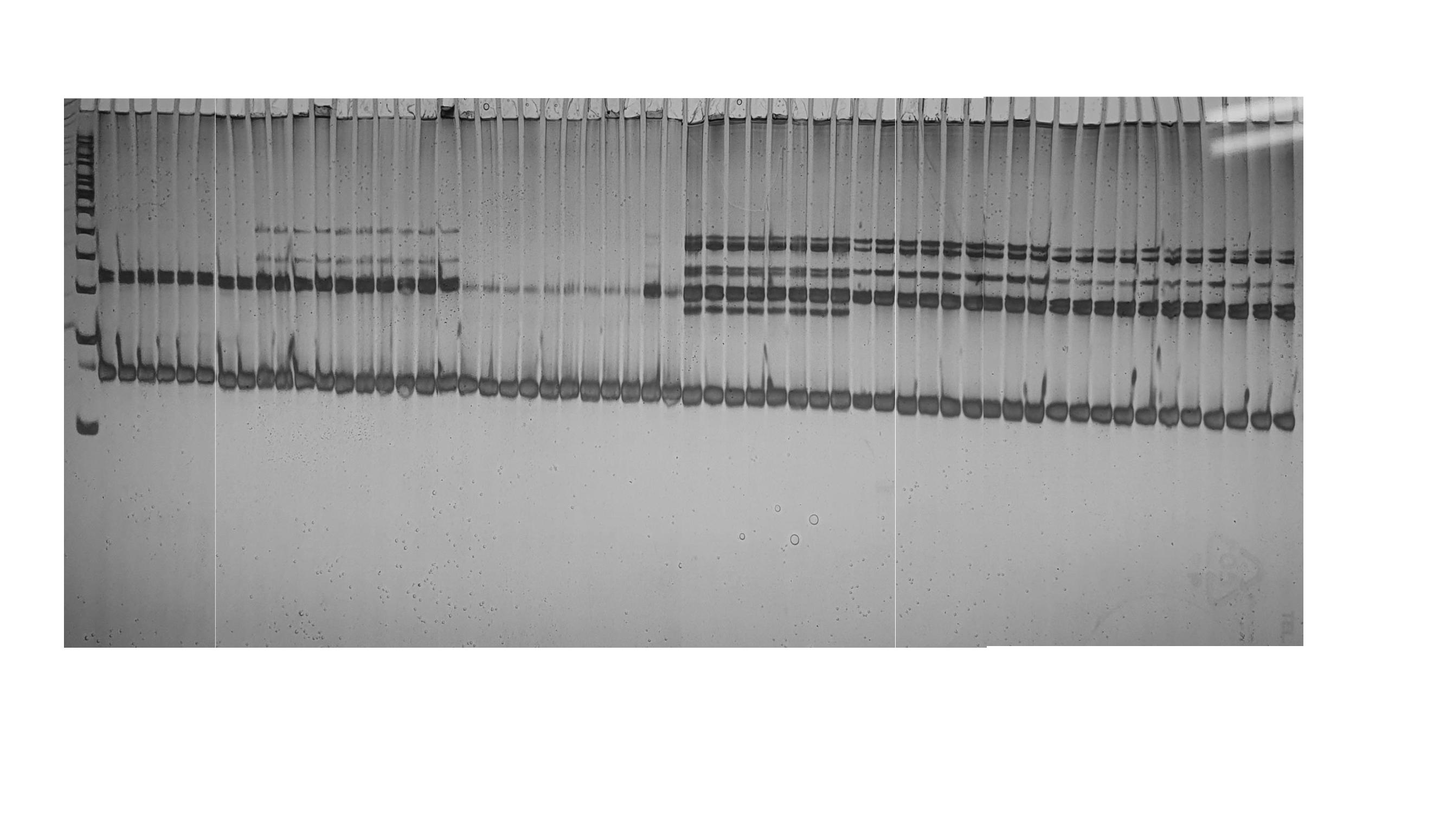B: (437, 357, 458, 396), (766, 375, 788, 410), (1180, 400, 1202, 430), (394, 370, 415, 401), (1272, 409, 1298, 434), (1158, 402, 1180, 431), (724, 381, 746, 410), (1249, 405, 1272, 432), (1203, 405, 1226, 432), (1135, 401, 1158, 428), (961, 393, 983, 421), (939, 393, 961, 421), (415, 369, 436, 398), (539, 373, 559, 403), (873, 387, 895, 414), (896, 392, 918, 419), (354, 368, 375, 396), (1002, 395, 1023, 423), (918, 390, 939, 418), (560, 374, 580, 403), (662, 380, 682, 409), (1045, 400, 1069, 424), (1113, 403, 1135, 429), (1023, 399, 1045, 425), (830, 387, 852, 413), (256, 362, 275, 392), (375, 368, 394, 398), (334, 370, 355, 397), (1226, 407, 1249, 431), (1069, 399, 1091, 424), (458, 372, 479, 398), (682, 382, 703, 408), (809, 386, 830, 412), (788, 386, 809, 412), (519, 375, 539, 402), (621, 378, 641, 405), (746, 383, 766, 410), (703, 383, 724, 408), (580, 378, 600, 404), (479, 372, 499, 398), (1091, 402, 1113, 425), (294, 369, 315, 393), (600, 379, 621, 403), (852, 388, 873, 412), (499, 376, 519, 401), (641, 380, 661, 405), (982, 395, 1002, 420), (275, 367, 294, 393), (137, 362, 157, 386), (217, 369, 238, 391), (176, 362, 195, 386), (97, 361, 117, 383), (196, 363, 215, 386), (315, 370, 334, 393), (117, 363, 137, 384), (918, 290, 940, 309), (238, 369, 256, 392), (157, 363, 175, 385), (354, 271, 376, 285), (1229, 276, 1251, 290), (1204, 276, 1226, 290), (438, 222, 461, 235), (1027, 273, 1050, 286), (873, 284, 895, 297), (1205, 309, 1227, 322), (1160, 298, 1182, 311), (964, 271, 983, 286), (461, 281, 481, 295), (438, 282, 461, 294), (293, 252, 314, 265), (543, 282, 562, 296), (1160, 308, 1182, 320), (787, 305, 807, 318), (1184, 255, 1204, 268), (582, 283, 602, 296), (1006, 272, 1026, 285), (1118, 242, 1138, 255), (1273, 311, 1296, 322), (1274, 256, 1297, 267), (1227, 299, 1250, 310), (1227, 310, 1250, 321), (1048, 306, 1071, 317), (333, 273, 354, 285), (396, 283, 417, 295), (314, 251, 332, 265), (396, 227, 417, 239), (766, 305, 787, 317), (1229, 256, 1250, 268), (563, 282, 581, 296), (255, 270, 274, 283), (314, 270, 333, 283), (603, 283, 622, 296), (746, 305, 765, 318), (1253, 256, 1272, 269), (1071, 306, 1093, 317), (1160, 278, 1182, 289), (1093, 297, 1115, 308), (1004, 303, 1026, 314), (1051, 254, 1073, 265), (417, 284, 437, 296), (705, 240, 725, 252), (482, 283, 502, 295), (1162, 244, 1182, 256), (1027, 294, 1047, 306), (353, 254, 374, 265), (830, 294, 851, 305), (897, 298, 918, 309), (852, 267, 873, 278), (1251, 300, 1272, 311), (1252, 311, 1273, 322), (1251, 245, 1272, 256), (942, 249, 963, 260), (1161, 256, 1182, 267), (1138, 307, 1159, 318), (1116, 308, 1137, 319), (1072, 276, 1093, 287), (984, 240, 1005, 251), (1273, 301, 1296, 311), (1181, 299, 1204, 309), (1048, 296, 1071, 306), (1028, 243, 1051, 253), (683, 305, 702, 317), (789, 242, 808, 254), (502, 284, 521, 296), (356, 285, 376, 296), (376, 283, 396, 294), (333, 254, 353, 265), (788, 293, 808, 304), (809, 307, 829, 318), (831, 307, 851, 318), (875, 246, 895, 257), (704, 304, 724, 315), (726, 241, 746, 252), (725, 305, 745, 316), (682, 293, 704, 303), (873, 297, 895, 307), (873, 267, 895, 277), (810, 242, 830, 253), (767, 230, 787, 241), (522, 284, 542, 295), (940, 292, 962, 302), (942, 239, 964, 249), (1139, 244, 1161, 254), (1139, 277, 1159, 288), (1093, 308, 1115, 318), (982, 293, 1004, 303), (963, 301, 983, 312), (333, 285, 354, 295), (291, 225, 312, 235), (809, 294, 830, 304), (704, 292, 725, 302), (683, 283, 704, 293), (897, 270, 918, 280), (919, 270, 940, 280), (1183, 246, 1204, 256), (1182, 309, 1203, 319), (1205, 299, 1226, 309), (941, 271, 962, 281), (1027, 306, 1048, 316), (1005, 294, 1026, 304), (983, 303, 1004, 313), (962, 292, 983, 302), (983, 272, 1004, 282), (1074, 254, 1095, 264), (1007, 241, 1028, 251), (984, 250, 1005, 260), (314, 283, 333, 294), (417, 226, 436, 237), (355, 225, 374, 236), (643, 289, 662, 300), (663, 288, 682, 299), (747, 241, 766, 252), (274, 271, 291, 283), (272, 253, 292, 263), (333, 227, 353, 237), (313, 225, 333, 235), (831, 243, 851, 253), (684, 242, 704, 252), (746, 293, 766, 303), (852, 296, 872, 306), (768, 241, 788, 251), (1118, 256, 1138, 266), (1029, 252, 1049, 262), (1007, 252, 1027, 262), (177, 268, 195, 279), (940, 302, 962, 311), (1096, 246, 1118, 255), (376, 273, 395, 283), (137, 276, 156, 286), (1208, 246, 1227, 256), (965, 249, 984, 259), (293, 284, 314, 293), (725, 284, 746, 293), (766, 293, 787, 302), (920, 239, 941, 248), (1072, 297, 1093, 306), (1116, 299, 1137, 308), (1097, 255, 1118, 264), (274, 283, 292, 293), (217, 273, 235, 283), (137, 266, 155, 276), (196, 269, 214, 279), (376, 226, 394, 236), (809, 286, 829, 295), (725, 293, 745, 302), (683, 262, 703, 271), (624, 287, 642, 297), (920, 248, 940, 257), (1208, 255, 1226, 265), (1140, 255, 1160, 264), (1095, 277, 1115, 286), (1051, 276, 1071, 285), (292, 276, 314, 284), (1273, 282, 1295, 290), (1274, 248, 1296, 256), (1137, 299, 1159, 307), (1116, 278, 1138, 286), (156, 268, 175, 277), (176, 278, 195, 287), (747, 271, 766, 280), (1184, 279, 1203, 288), (255, 252, 272, 262), (830, 286, 851, 294), (704, 284, 725, 292), (897, 290, 918, 298), (852, 288, 873, 296), (1229, 247, 1250, 255), (97, 275, 115, 284), (118, 268, 136, 277), (254, 225, 272, 234), (375, 256, 393, 265), (417, 276, 437, 284), (440, 256, 460, 264), (417, 257, 437, 265), (273, 225, 289, 235), (853, 237, 873, 245), (853, 245, 873, 253), (875, 238, 895, 246), (643, 281, 663, 289), (746, 285, 766, 293), (767, 285, 787, 293), (899, 239, 919, 247), (898, 248, 918, 256), (1252, 281, 1272, 289), (438, 275, 460, 282), (256, 283, 273, 292), (398, 256, 415, 265), (117, 277, 136, 285), (156, 277, 175, 285), (196, 279, 215, 287), (397, 275, 416, 283), (965, 241, 984, 249), (1074, 246, 1095, 253), (98, 267, 116, 275), (236, 275, 254, 283), (236, 283, 254, 291), (789, 264, 807, 272), (747, 233, 765, 241), (831, 266, 851, 273), (809, 272, 829, 279), (705, 263, 725, 270), (726, 234, 746, 241), (726, 264, 746, 271), (683, 271, 703, 278), (767, 264, 787, 271), (767, 271, 787, 278), (1052, 246, 1072, 253), (217, 283, 236, 290), (788, 286, 807, 293), (789, 272, 808, 279), (808, 266, 830, 272), (831, 236, 852, 242), (725, 271, 746, 277), (831, 273, 851, 279), (704, 270, 724, 276), (684, 234, 704, 240), (810, 236, 829, 242), (789, 235, 808, 241), (747, 265, 765, 271), (705, 235, 725, 240)
L: (69, 98, 1303, 139)
M: (72, 98, 101, 455)
P: (75, 414, 100, 437), (74, 278, 98, 296), (74, 328, 97, 346), (74, 244, 96, 262), (75, 203, 95, 219), (74, 188, 95, 203), (75, 223, 96, 237), (77, 359, 97, 373), (75, 160, 95, 170), (75, 152, 95, 160), (75, 141, 95, 149), (74, 181, 95, 188), (75, 173, 95, 180), (75, 134, 94, 141)
Pc: (686, 106, 706, 128), (313, 103, 333, 120), (921, 112, 942, 128), (899, 111, 920, 127), (1012, 113, 1032, 129), (397, 104, 416, 120), (644, 106, 664, 121), (439, 104, 456, 121), (707, 111, 725, 127), (457, 108, 476, 122), (834, 114, 854, 127), (1249, 118, 1270, 130), (945, 116, 966, 128), (771, 112, 789, 126), (728, 113, 747, 126), (1034, 118, 1054, 130), (967, 117, 987, 129), (811, 116, 832, 127), (665, 114, 684, 126), (1057, 121, 1079, 131), (988, 118, 1010, 128), (857, 116, 877, 127), (420, 109, 438, 121), (750, 113, 768, 125), (1181, 119, 1202, 129), (1158, 119, 1179, 129), (1081, 121, 1102, 131), (790, 116, 809, 127), (522, 113, 541, 124), (133, 109, 153, 119), (604, 108, 620, 120), (479, 113, 498, 123), (269, 112, 289, 121), (1204, 120, 1224, 129), (501, 113, 519, 123), (1103, 119, 1122, 128), (1226, 119, 1247, 127), (249, 112, 267, 121), (292, 110, 310, 119), (1140, 120, 1158, 129), (1122, 119, 1140, 128), (623, 112, 641, 121), (544, 114, 563, 122), (880, 117, 895, 127), (1273, 119, 1294, 126), (586, 113, 602, 122), (229, 113, 246, 121), (78, 107, 97, 114), (156, 110, 175, 117), (335, 114, 354, 121), (178, 110, 196, 117), (377, 114, 395, 121), (565, 115, 583, 122), (199, 111, 215, 118), (356, 115, 374, 121), (114, 110, 131, 116), (98, 108, 112, 115), (216, 112, 228, 119)
